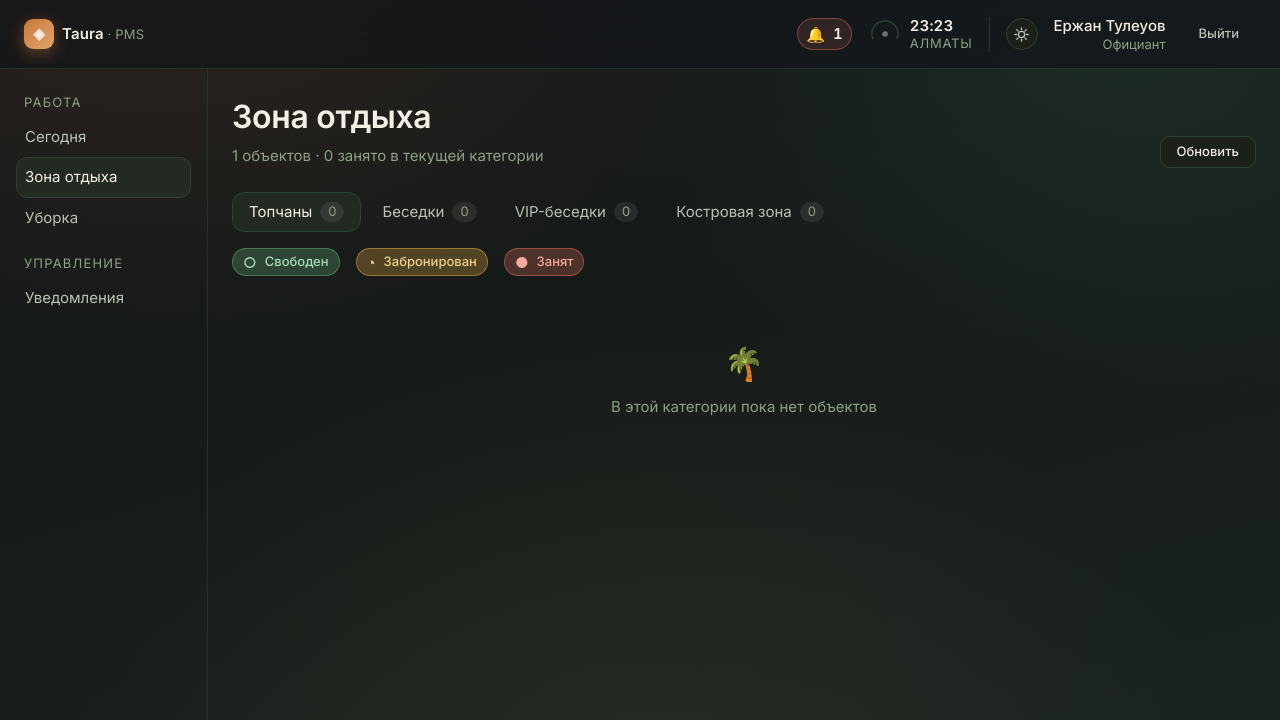
it: §13 alerts — role scope › asks on behalf of a waiter too, and shows them an arrival
The width and height of the screenshot is (1280, 720).
Check: the heading "Зона отдыха" is shown, box [232,97,431,136]
Step 1. Click the button named "Событий, требующих внимания: 1" → (824, 34), box [797,18,852,50]
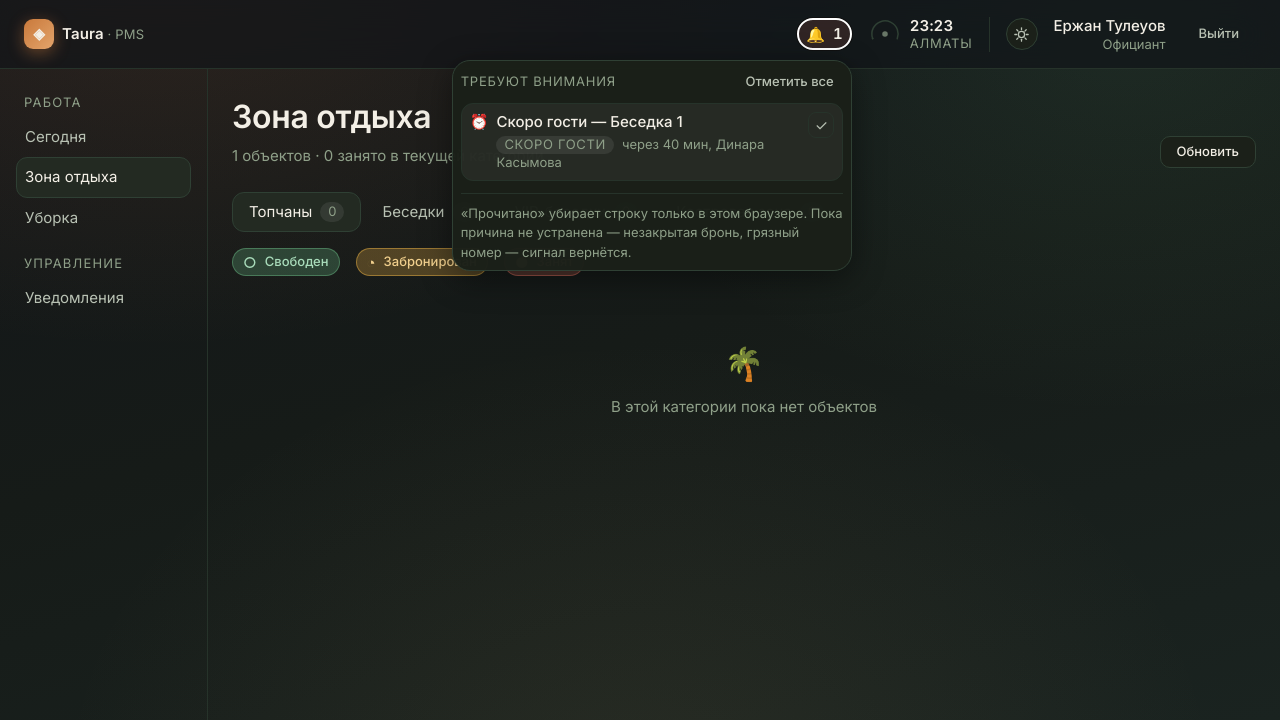
Check: the link "Скоро гости — Беседка 1" is shown, box [496,112,683,131]
Check: the text "Скоро гости через 40 мин, Динара Касымова" is shown, box [496,136,800,172]
Check: the text "Скоро гости" is shown, box [496,136,614,154]
